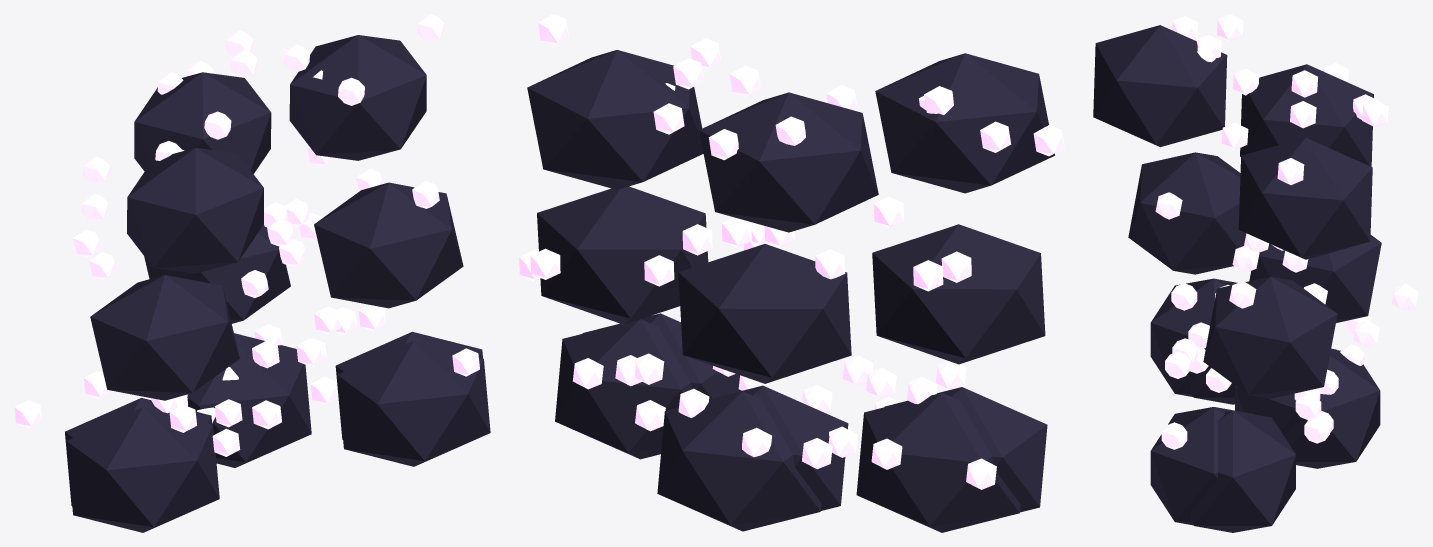
File: Ore_Starlight.fbx
3 views of the same model, side by side, from view 1: azimuth 30°, elevation 25°; view 2: azimuth 150°, elevation 25°; view 3: azimuth 270°, elevation 25° (orthographic). The views are drawn at different scales.
Visible parts, largest first — view 1: Ore_Starlight__Stack, Ore_Starlight; view 2: Ore_Starlight__Stack, Ore_Starlight; view 3: Ore_Starlight__Stack, Ore_Starlight.
Part boxes in pixels (x1=…): Ore_Starlight__Stack: x1=14, y1=14, x2=482, y2=505; Ore_Starlight: x1=66, y1=304, x2=490, y2=532; Ore_Starlight__Stack: x1=519, y1=14, x2=1064, y2=532; Ore_Starlight: x1=573, y1=312, x2=1047, y2=512; Ore_Starlight__Stack: x1=1093, y1=14, x2=1418, y2=532; Ore_Starlight: x1=1150, y1=278, x2=1336, y2=525.
Size of the model in its own units: 0.142 by 0.1311 by 0.0965.
